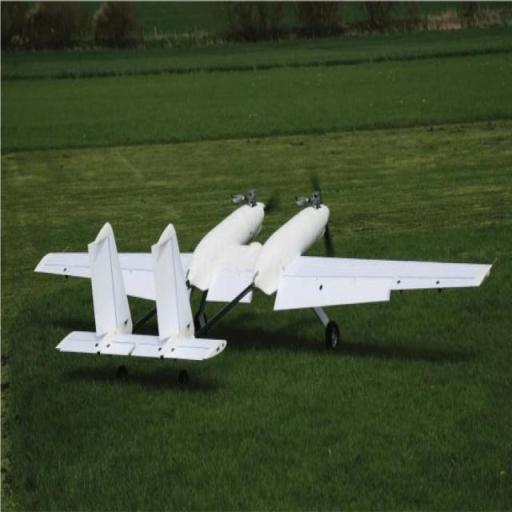uav: (16, 159, 498, 401)
